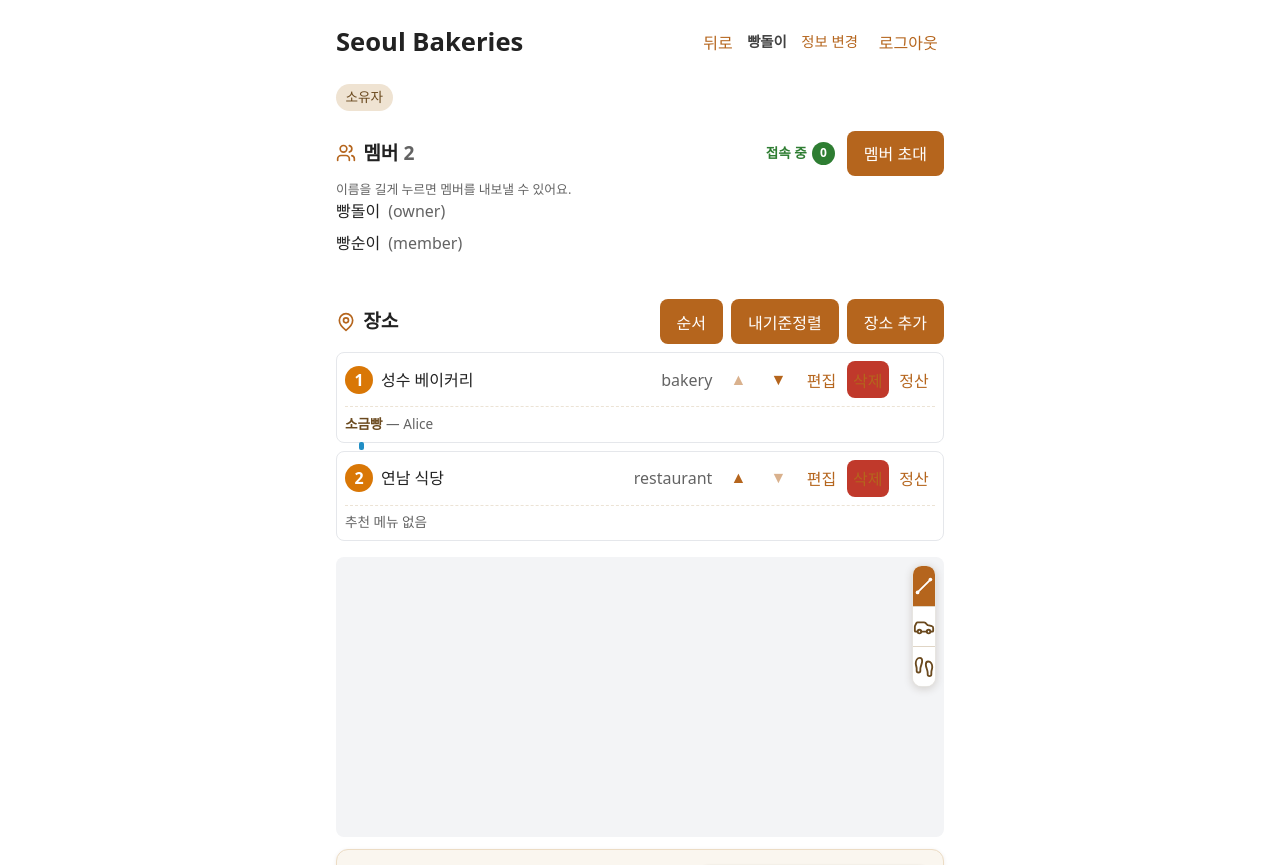
Test: TourDetail permission UI (REQ-F6-004/005/006 / AC-F6-04..06) › shows owner-only actions when the current user is the owner
Expected: the heading "Seoul Bakeries" is shown, [336,23,523,61]
Expected: the button "멤버 초대" is shown, [847,131,944,176]
Right-click the text "빵순이" at (358, 243), box [336,231,380,255]
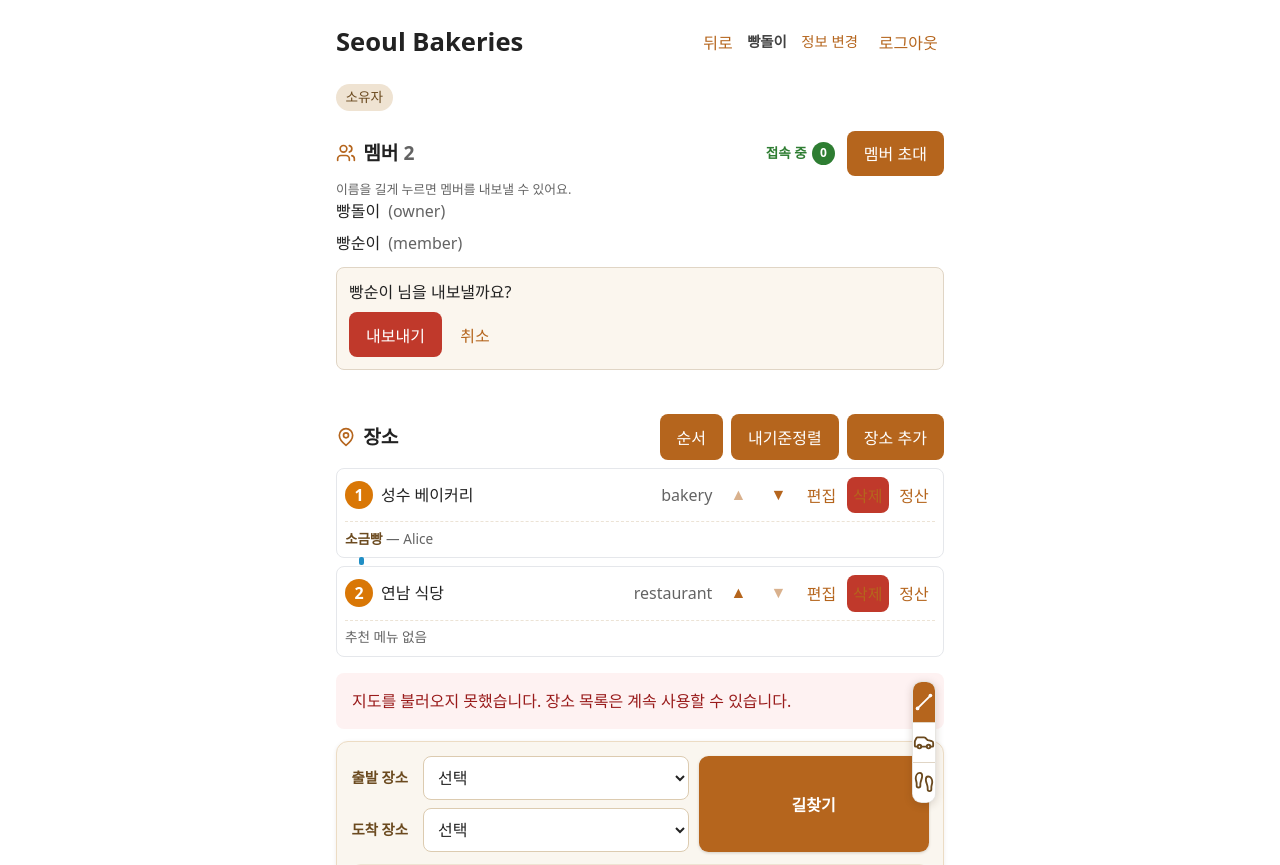
Expected: the button "내보내기" is shown, [349,312,442,357]
